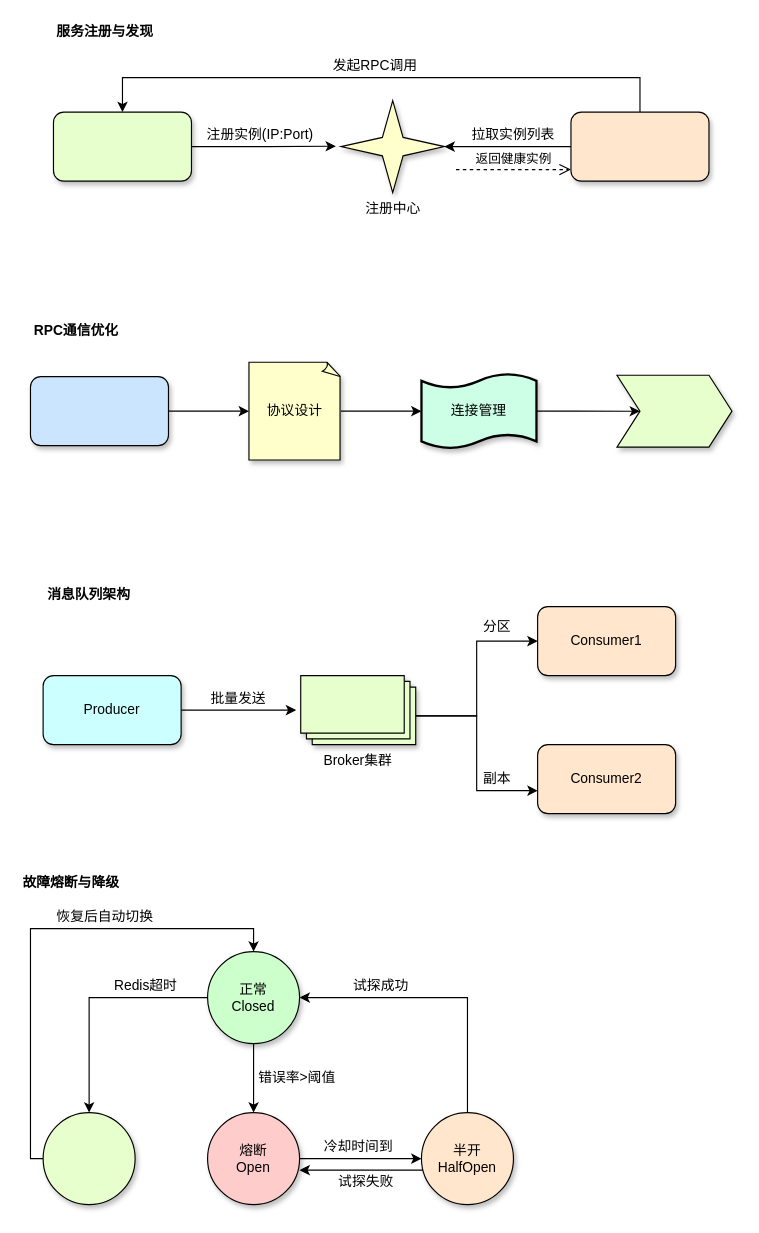
Some shapes in this 759 by 1233 pixel diagram are drawn without their labels. The shapes that lost their labels are listed below. From the top down, each one's centre as x and y in pixels, then its label:
At pixel 123 147: "服务提供者".
At pixel 640 147: "服务消费者".
At pixel 100 412: "序列化".
At pixel 675 412: "流量控制".
At pixel 89 1160: "降级".
